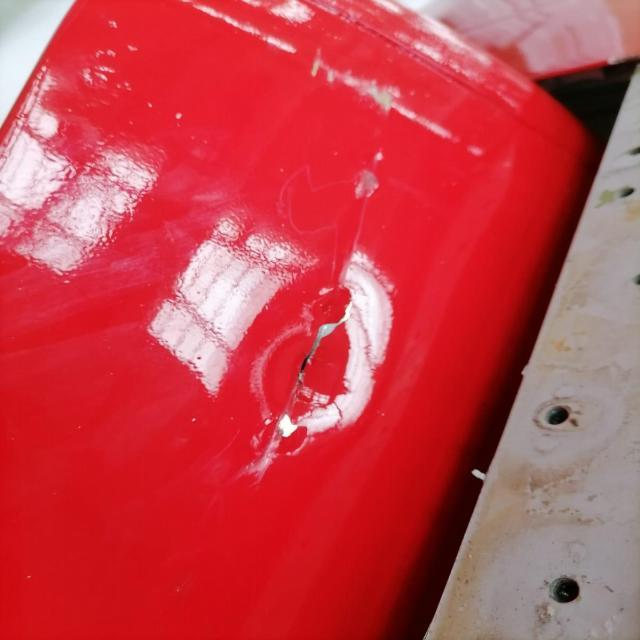crack: (246, 242, 389, 500)
